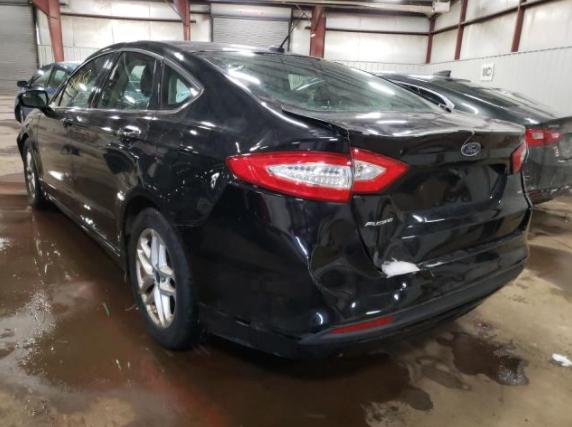Back-bumper: (182, 171, 534, 361)
Back-door: (72, 47, 164, 250)
Back-wheel: (127, 209, 204, 348)
Back-window: (96, 52, 155, 109), (163, 66, 197, 110)
Back-windshield: (194, 52, 447, 113)
Fender: (19, 109, 45, 191)
Front-bumper: (16, 134, 23, 161)
Front-door: (37, 49, 119, 214)
Front-wheel: (23, 139, 40, 205)
Front-window: (54, 54, 113, 105)
Mirror: (18, 90, 57, 120)
Quarter-panel: (116, 91, 351, 255)
Rocker-panel: (41, 190, 126, 271)
Roof: (140, 40, 312, 57)
Tail-light: (226, 150, 353, 203), (351, 146, 409, 194), (513, 140, 530, 174)
Trunk: (282, 104, 529, 270)
